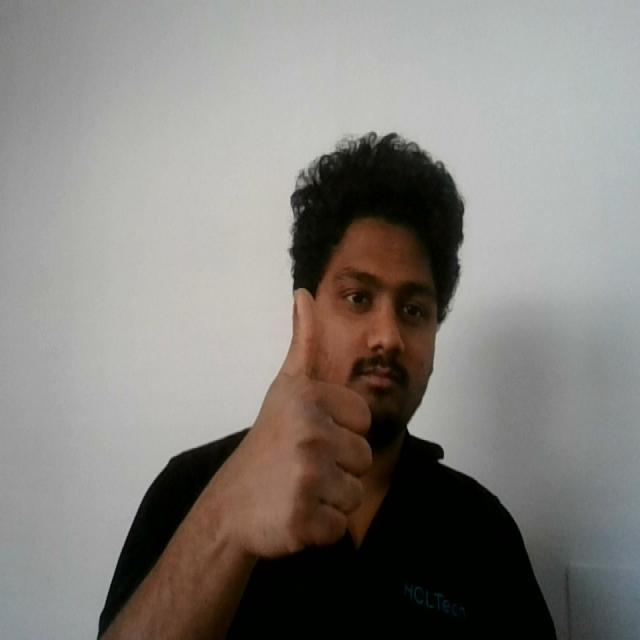Yes: (213, 281, 377, 572)
